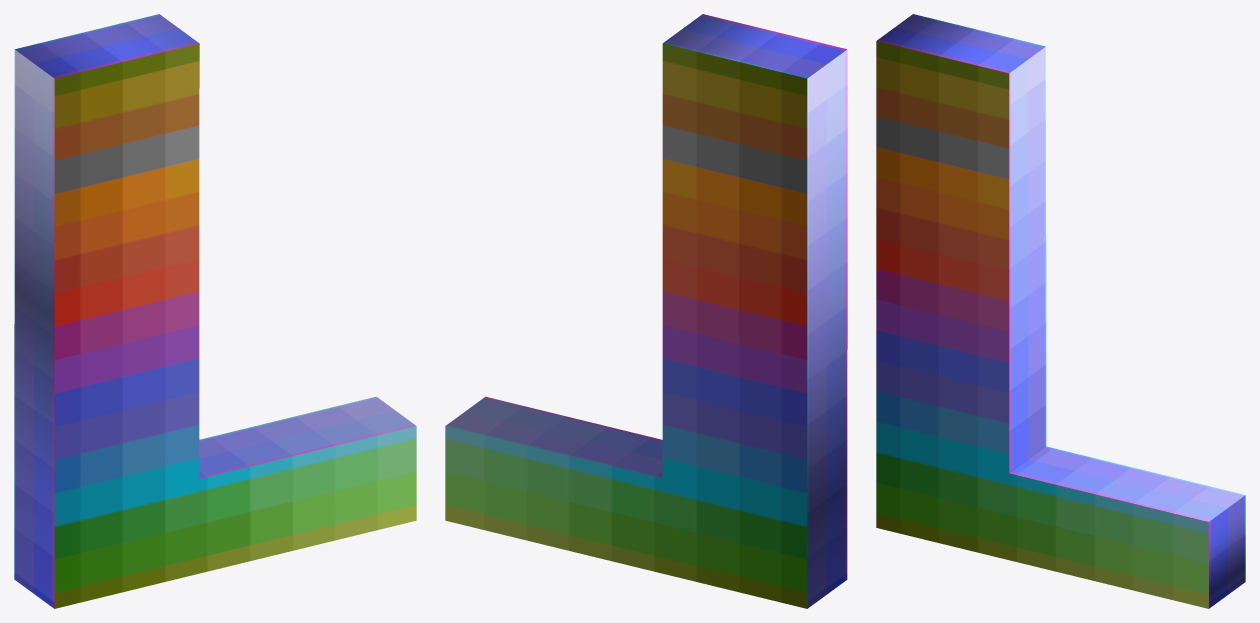
3 views of the same model, side by side, from view 1: azimuth 30°, elevation 25°; view 2: azimuth 150°, elevation 25°; view 3: azimuth 330°, elevation 25° (orthographic). The views are drawn at different scales.
Visible parts, largest first — view 1: l; view 2: l; view 3: l.
Part boxes in pixels (x1,y1,x2,y2): l: (14, 14, 416, 608); l: (445, 14, 847, 608); l: (876, 14, 1245, 608).
Bounding box in the file's own units: 0.4167 × 0.5834 × 0.0803.
1 material, 1 textured.
